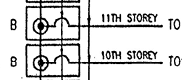Single Phase Tap-Off Unit: (22, 42, 83, 80), (23, 3, 81, 41)
